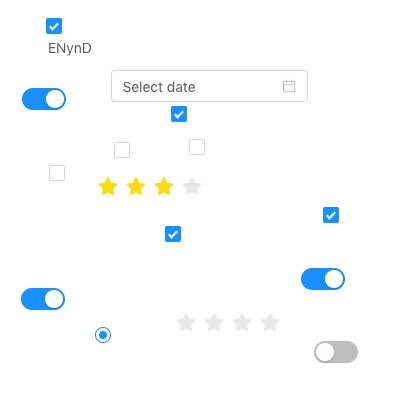Checkbox: (49, 162, 65, 183), (189, 136, 205, 157), (165, 223, 181, 244), (171, 103, 187, 124), (114, 139, 130, 160), (46, 15, 62, 36), (323, 204, 339, 225)
DatePicker: (111, 70, 308, 102)
Radio: (95, 324, 111, 344)
Rate: (176, 306, 296, 338), (98, 170, 218, 202)
Switch: (21, 287, 65, 311), (301, 267, 345, 291), (314, 340, 358, 364), (22, 87, 66, 111)
Text: (48, 37, 100, 59)
